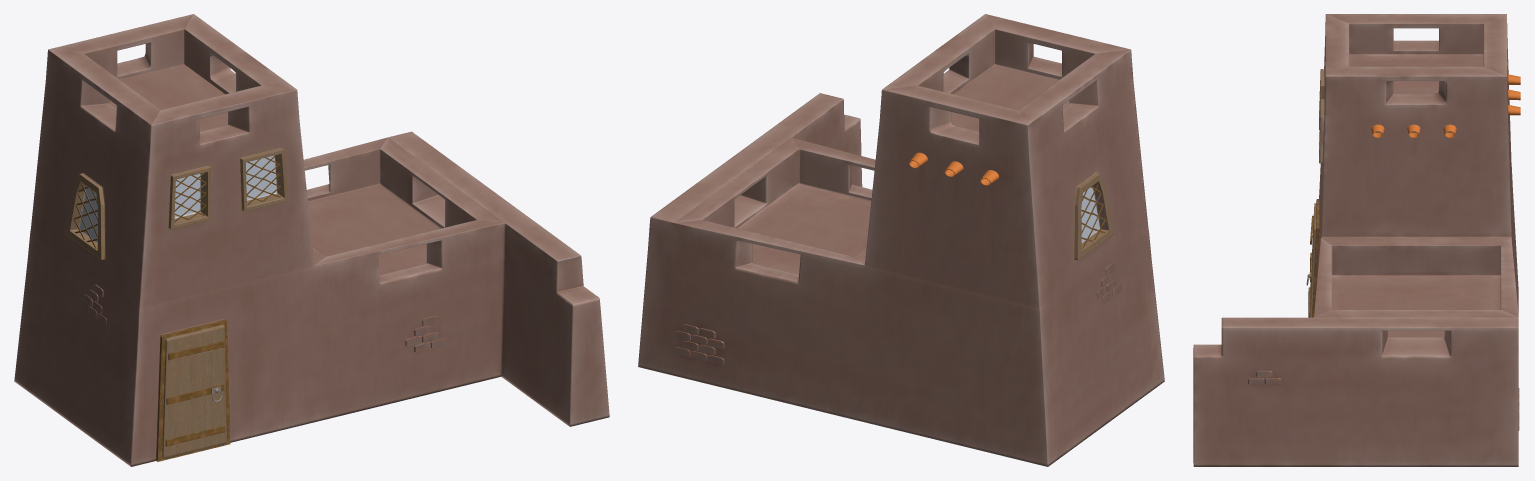
The picture shows the model from 3 angles, left to right: view 1: azimuth 30°, elevation 25°; view 2: azimuth 150°, elevation 25°; view 3: azimuth 270°, elevation 25°; orthographic projection. The views are drawn at different scales.
Visible parts, largest first — view 1: DecorativeHouse3, Tablas, Cube.005; view 2: DecorativeHouse3, Cube.020, Desague.013; view 3: DecorativeHouse3, Desague.001, Desague.013, Cube.001.
Boxes of the visible parts, x1,y1,x2,y2 form: DecorativeHouse3: [14, 14, 609, 466]; Tablas: [165, 341, 225, 446]; Cube.005: [405, 315, 446, 352]; DecorativeHouse3: [638, 14, 1164, 466]; Cube.020: [675, 324, 724, 365]; Desague.013: [909, 152, 998, 185]; DecorativeHouse3: [1193, 14, 1518, 466]; Desague.001: [1371, 124, 1456, 137]; Desague.013: [1508, 74, 1520, 115]; Cube.001: [1248, 370, 1281, 385].
Bounding box in the file's own units: 9.72 × 7.49 × 7.67.
Materials: 2 (2 with a texture image).
